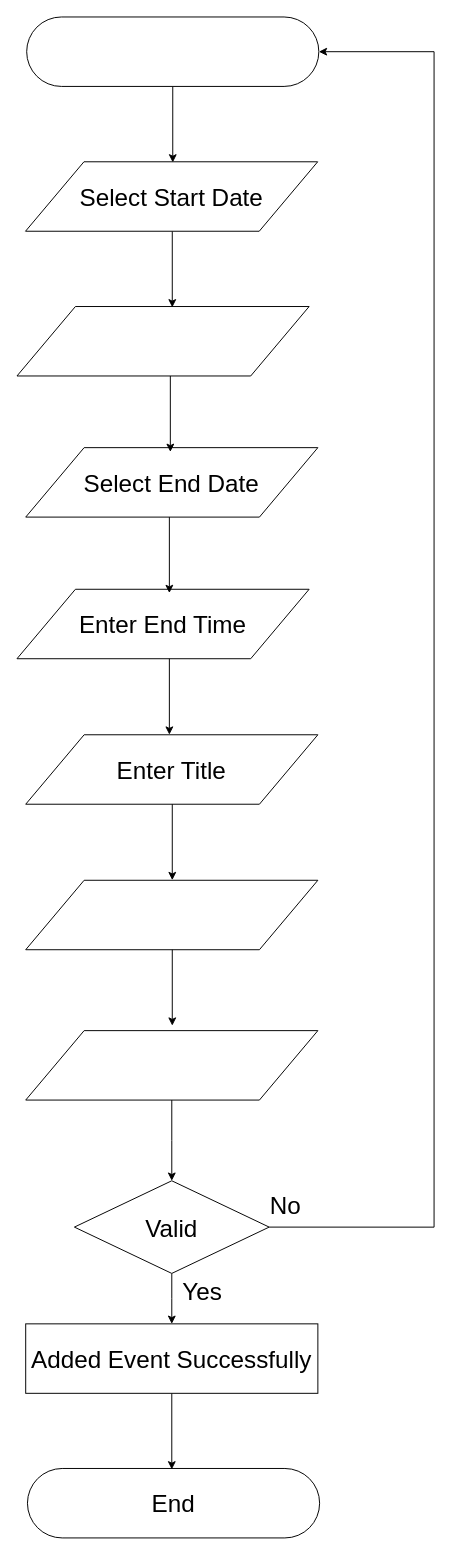
This 459x1555 diagram has some shape labels left out. Each missing label, with the box of its shape:
Enter Description: (25, 879, 318, 950)
Enter Expense: (25, 1030, 318, 1100)
Enter Start Time: (16, 306, 309, 376)
Start: (26, 16, 319, 86)
